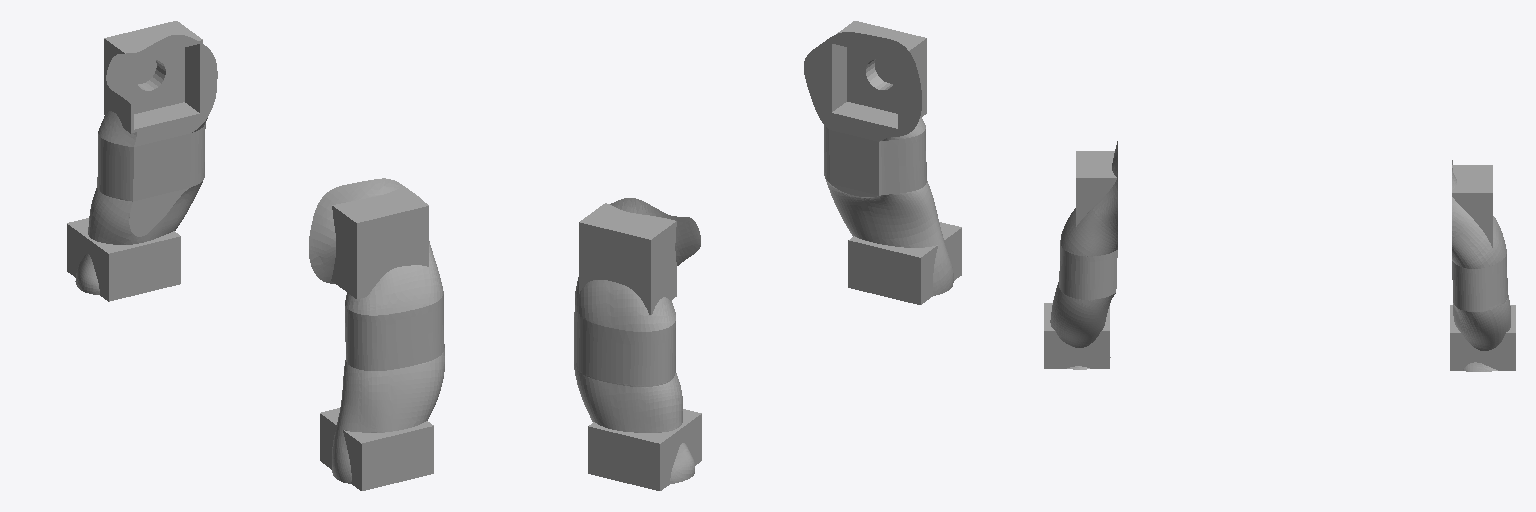
The robot description file, URDF, robot "FrogBot4_top-FrogBot4-y-7_bottom-FrogBot4-y-7":
<?xml version="1.0" ?>
<robot name="FrogBot4_top-FrogBot4-y-7_bottom-FrogBot4-y-7">

<material name="pla_5_percent_infill">
  <color rgba="0.700 0.700 0.700 1.000"/>
</material>

<link name="base_link">
  <inertial>
    <origin xyz="0 0 0" rpy="0 0 0"/>
    <mass value="1.4608203761339813"/>
    <inertia ixx="0.00496034401110324" iyy="0.010259632804669863" izz="0.010457868746855814" ixy="4.519338143051983e-05" iyz="5.808312742508133e-05" ixz="-0.001193761897574285"/>
  </inertial>
  <visual>
    <origin xyz="0 0 0" rpy="0 0 0"/>
    <geometry>
      <mesh filename="simple_meshes/base_link.stl" scale="0.001 0.001 0.001"/>
    </geometry>
    <material name="pla_5_percent_infill"/>
  </visual>
  <collision>
    <origin xyz="0 0 0" rpy="0 0 0"/>
    <geometry>
      <mesh filename="simple_meshes/base_link.stl" scale="0.001 0.001 0.001"/>
    </geometry>
  </collision>
</link>

<link name="body_1_0_1">
  <inertial>
    <origin xyz="-0.039935 -0.102508 -0.020563" rpy="0 0 0"/>
    <mass value="0.08806907417557021"/>
    <inertia ixx="0.00012049356356625958" iyy="0.00013686455339734474" izz="3.8516166821696155e-05" ixy="1.0189695669821303e-06" iyz="2.991540384396341e-06" ixz="-1.6095274941338198e-05"/>
  </inertial>
  <visual>
    <origin xyz="-0.039935 -0.102508 -0.020563" rpy="0 0 0"/>
    <geometry>
      <mesh filename="simple_meshes/body_1_0_1.stl" scale="0.001 0.001 0.001"/>
    </geometry>
    <material name="pla_5_percent_infill"/>
  </visual>
  <collision>
    <origin xyz="-0.039935 -0.102508 -0.020563" rpy="0 0 0"/>
    <geometry>
      <mesh filename="simple_meshes/body_1_0_1.stl" scale="0.001 0.001 0.001"/>
    </geometry>
  </collision>
</link>

<link name="body_1_1_1">
  <inertial>
    <origin xyz="0.084829 -0.102508 0.010182" rpy="0 0 0"/>
    <mass value="0.1029391210635293"/>
    <inertia ixx="9.719745371078491e-05" iyy="0.00014832582264538165" izz="7.721916214502777e-05" ixy="-2.106756490153055e-06" iyz="1.6386066714682568e-06" ixz="-2.84998514255218e-05"/>
  </inertial>
  <visual>
    <origin xyz="0.084829 -0.102508 0.010182" rpy="0 0 0"/>
    <geometry>
      <mesh filename="simple_meshes/body_1_1_1.stl" scale="0.001 0.001 0.001"/>
    </geometry>
    <material name="pla_5_percent_infill"/>
  </visual>
  <collision>
    <origin xyz="0.084829 -0.102508 0.010182" rpy="0 0 0"/>
    <geometry>
      <mesh filename="simple_meshes/body_1_1_1.stl" scale="0.001 0.001 0.001"/>
    </geometry>
  </collision>
</link>

<link name="body_1_2_1">
  <inertial>
    <origin xyz="-0.032973 0.102508 -0.03352" rpy="0 0 0"/>
    <mass value="0.0941985361875743"/>
    <inertia ixx="0.00014781790499370819" iyy="0.0001626710035251385" izz="4.1745987585721685e-05" ixy="-2.672525612576525e-06" iyz="-1.3399817730806013e-05" ixz="-1.3631072601363105e-05"/>
  </inertial>
  <visual>
    <origin xyz="-0.032973 0.102508 -0.03352" rpy="0 0 0"/>
    <geometry>
      <mesh filename="simple_meshes/body_1_2_1.stl" scale="0.001 0.001 0.001"/>
    </geometry>
    <material name="pla_5_percent_infill"/>
  </visual>
  <collision>
    <origin xyz="-0.032973 0.102508 -0.03352" rpy="0 0 0"/>
    <geometry>
      <mesh filename="simple_meshes/body_1_2_1.stl" scale="0.001 0.001 0.001"/>
    </geometry>
  </collision>
</link>

<link name="body_1_3_1">
  <inertial>
    <origin xyz="0.075405 0.102508 -0.000907" rpy="0 0 0"/>
    <mass value="0.10917235034942493"/>
    <inertia ixx="0.00010674321912296659" iyy="0.00015894901746545836" izz="8.067615208341879e-05" ixy="1.3409614431293855e-07" iyz="-1.6970439278731061e-06" ixz="-2.820375962325609e-05"/>
  </inertial>
  <visual>
    <origin xyz="0.075405 0.102508 -0.000907" rpy="0 0 0"/>
    <geometry>
      <mesh filename="simple_meshes/body_1_3_1.stl" scale="0.001 0.001 0.001"/>
    </geometry>
    <material name="pla_5_percent_infill"/>
  </visual>
  <collision>
    <origin xyz="0.075405 0.102508 -0.000907" rpy="0 0 0"/>
    <geometry>
      <mesh filename="simple_meshes/body_1_3_1.stl" scale="0.001 0.001 0.001"/>
    </geometry>
  </collision>
</link>

<link name="body_2_0_1">
  <inertial>
    <origin xyz="-0.025656 -0.145015 0.120436" rpy="0 0 0"/>
    <mass value="0.11635133974770652"/>
    <inertia ixx="9.74748840274443e-05" iyy="0.00011934417607174352" izz="0.00011483751253826922" ixy="-2.876155988833576e-07" iyz="1.020021458159482e-06" ixz="2.5302760128082706e-05"/>
  </inertial>
  <visual>
    <origin xyz="-0.025656 -0.145015 0.120436" rpy="0 0 0"/>
    <geometry>
      <mesh filename="simple_meshes/body_2_0_1.stl" scale="0.001 0.001 0.001"/>
    </geometry>
    <material name="pla_5_percent_infill"/>
  </visual>
  <collision>
    <origin xyz="-0.025656 -0.145015 0.120436" rpy="0 0 0"/>
    <geometry>
      <mesh filename="simple_meshes/body_2_0_1.stl" scale="0.001 0.001 0.001"/>
    </geometry>
  </collision>
</link>

<link name="body_2_1_1">
  <inertial>
    <origin xyz="0.114857 -0.145661 0.120438" rpy="0 0 0"/>
    <mass value="0.09928363723516312"/>
    <inertia ixx="7.267018725068495e-05" iyy="0.0001071929889748047" izz="8.167884557088757e-05" ixy="-3.150545319302025e-06" iyz="5.95418279835877e-06" ixz="2.595192462056346e-05"/>
  </inertial>
  <visual>
    <origin xyz="0.114857 -0.145661 0.120438" rpy="0 0 0"/>
    <geometry>
      <mesh filename="simple_meshes/body_2_1_1.stl" scale="0.001 0.001 0.001"/>
    </geometry>
    <material name="pla_5_percent_infill"/>
  </visual>
  <collision>
    <origin xyz="0.114857 -0.145661 0.120438" rpy="0 0 0"/>
    <geometry>
      <mesh filename="simple_meshes/body_2_1_1.stl" scale="0.001 0.001 0.001"/>
    </geometry>
  </collision>
</link>

<link name="body_2_2_1">
  <inertial>
    <origin xyz="-0.022601 0.152053 0.120436" rpy="0 0 0"/>
    <mass value="0.1258670170742875"/>
    <inertia ixx="0.00010483389591859401" iyy="0.00013170263491416034" izz="0.0001236093088681019" ixy="-3.5660109023371786e-06" iyz="-8.461715890690016e-07" ixz="2.8156129153104762e-05"/>
  </inertial>
  <visual>
    <origin xyz="-0.022601 0.152053 0.120436" rpy="0 0 0"/>
    <geometry>
      <mesh filename="simple_meshes/body_2_2_1.stl" scale="0.001 0.001 0.001"/>
    </geometry>
    <material name="pla_5_percent_infill"/>
  </visual>
  <collision>
    <origin xyz="-0.022601 0.152053 0.120436" rpy="0 0 0"/>
    <geometry>
      <mesh filename="simple_meshes/body_2_2_1.stl" scale="0.001 0.001 0.001"/>
    </geometry>
  </collision>
</link>

<link name="body_2_3_1">
  <inertial>
    <origin xyz="0.12145 0.146005 0.120436" rpy="0 0 0"/>
    <mass value="0.10434137259463774"/>
    <inertia ixx="8.969585810559167e-05" iyy="9.703129321476413e-05" izz="9.775546545465587e-05" ixy="6.002398089952022e-06" iyz="-1.0557005019453617e-05" ixz="1.8072735171900407e-05"/>
  </inertial>
  <visual>
    <origin xyz="0.12145 0.146005 0.120436" rpy="0 0 0"/>
    <geometry>
      <mesh filename="simple_meshes/body_2_3_1.stl" scale="0.001 0.001 0.001"/>
    </geometry>
    <material name="pla_5_percent_infill"/>
  </visual>
  <collision>
    <origin xyz="0.12145 0.146005 0.120436" rpy="0 0 0"/>
    <geometry>
      <mesh filename="simple_meshes/body_2_3_1.stl" scale="0.001 0.001 0.001"/>
    </geometry>
  </collision>
</link>

<joint name="joint_1_0" type="revolute">
  <origin xyz="0.039935 0.102508 0.020563" rpy="0 0 0"/>
  <parent link="base_link"/>
  <child link="body_1_0_1"/>
  <axis xyz="0.0 0.0 -1.0"/>
  <limit upper="1.2" lower="-1.2" effort="3.8" velocity="5.4"/>
</joint>
<transmission name="joint_1_0_tran">
  <type>transmission_interface/SimpleTransmission</type>
  <joint name="joint_1_0">
    <hardwareInterface>PositionJointInterface</hardwareInterface>
  </joint>
  <actuator name="joint_1_0_actr">
    <hardwareInterface>PositionJointInterface</hardwareInterface>
    <mechanicalReduction>1</mechanicalReduction>
  </actuator>
</transmission>

<joint name="joint_1_1" type="revolute">
  <origin xyz="-0.084829 0.102508 -0.010182" rpy="0 0 0"/>
  <parent link="base_link"/>
  <child link="body_1_1_1"/>
  <axis xyz="0.0 0.0 -1.0"/>
  <limit upper="1.2" lower="-1.2" effort="3.8" velocity="5.4"/>
</joint>
<transmission name="joint_1_1_tran">
  <type>transmission_interface/SimpleTransmission</type>
  <joint name="joint_1_1">
    <hardwareInterface>PositionJointInterface</hardwareInterface>
  </joint>
  <actuator name="joint_1_1_actr">
    <hardwareInterface>PositionJointInterface</hardwareInterface>
    <mechanicalReduction>1</mechanicalReduction>
  </actuator>
</transmission>

<joint name="joint_1_2" type="revolute">
  <origin xyz="0.032973 -0.102508 0.03352" rpy="0 0 0"/>
  <parent link="base_link"/>
  <child link="body_1_2_1"/>
  <axis xyz="0.0 0.0 -1.0"/>
  <limit upper="1.2" lower="-1.2" effort="3.8" velocity="5.4"/>
</joint>
<transmission name="joint_1_2_tran">
  <type>transmission_interface/SimpleTransmission</type>
  <joint name="joint_1_2">
    <hardwareInterface>PositionJointInterface</hardwareInterface>
  </joint>
  <actuator name="joint_1_2_actr">
    <hardwareInterface>PositionJointInterface</hardwareInterface>
    <mechanicalReduction>1</mechanicalReduction>
  </actuator>
</transmission>

<joint name="joint_1_3" type="revolute">
  <origin xyz="-0.075405 -0.102508 0.000907" rpy="0 0 0"/>
  <parent link="base_link"/>
  <child link="body_1_3_1"/>
  <axis xyz="0.0 0.0 -1.0"/>
  <limit upper="1.2" lower="-1.2" effort="3.8" velocity="5.4"/>
</joint>
<transmission name="joint_1_3_tran">
  <type>transmission_interface/SimpleTransmission</type>
  <joint name="joint_1_3">
    <hardwareInterface>PositionJointInterface</hardwareInterface>
  </joint>
  <actuator name="joint_1_3_actr">
    <hardwareInterface>PositionJointInterface</hardwareInterface>
    <mechanicalReduction>1</mechanicalReduction>
  </actuator>
</transmission>

<joint name="joint_2_0" type="revolute">
  <origin xyz="-0.014279 0.042507 -0.140999" rpy="0 0 0"/>
  <parent link="body_1_0_1"/>
  <child link="body_2_0_1"/>
  <axis xyz="0.0 1.0 0.0"/>
  <limit upper="1.2" lower="-1.2" effort="3.8" velocity="5.4"/>
</joint>
<transmission name="joint_2_0_tran">
  <type>transmission_interface/SimpleTransmission</type>
  <joint name="joint_2_0">
    <hardwareInterface>PositionJointInterface</hardwareInterface>
  </joint>
  <actuator name="joint_2_0_actr">
    <hardwareInterface>PositionJointInterface</hardwareInterface>
    <mechanicalReduction>1</mechanicalReduction>
  </actuator>
</transmission>

<joint name="joint_2_1" type="revolute">
  <origin xyz="-0.030028 0.043153 -0.110256" rpy="0 0 0"/>
  <parent link="body_1_1_1"/>
  <child link="body_2_1_1"/>
  <axis xyz="0.0 1.0 0.0"/>
  <limit upper="1.2" lower="-1.2" effort="3.8" velocity="5.4"/>
</joint>
<transmission name="joint_2_1_tran">
  <type>transmission_interface/SimpleTransmission</type>
  <joint name="joint_2_1">
    <hardwareInterface>PositionJointInterface</hardwareInterface>
  </joint>
  <actuator name="joint_2_1_actr">
    <hardwareInterface>PositionJointInterface</hardwareInterface>
    <mechanicalReduction>1</mechanicalReduction>
  </actuator>
</transmission>

<joint name="joint_2_2" type="revolute">
  <origin xyz="-0.010372 -0.049545 -0.153956" rpy="0 0 0"/>
  <parent link="body_1_2_1"/>
  <child link="body_2_2_1"/>
  <axis xyz="0.0 1.0 0.0"/>
  <limit upper="1.2" lower="-1.2" effort="3.8" velocity="5.4"/>
</joint>
<transmission name="joint_2_2_tran">
  <type>transmission_interface/SimpleTransmission</type>
  <joint name="joint_2_2">
    <hardwareInterface>PositionJointInterface</hardwareInterface>
  </joint>
  <actuator name="joint_2_2_actr">
    <hardwareInterface>PositionJointInterface</hardwareInterface>
    <mechanicalReduction>1</mechanicalReduction>
  </actuator>
</transmission>

<joint name="joint_2_3" type="revolute">
  <origin xyz="-0.046045 -0.043497 -0.121343" rpy="0 0 0"/>
  <parent link="body_1_3_1"/>
  <child link="body_2_3_1"/>
  <axis xyz="0.0 1.0 0.0"/>
  <limit upper="1.2" lower="-1.2" effort="3.8" velocity="5.4"/>
</joint>
<transmission name="joint_2_3_tran">
  <type>transmission_interface/SimpleTransmission</type>
  <joint name="joint_2_3">
    <hardwareInterface>PositionJointInterface</hardwareInterface>
  </joint>
  <actuator name="joint_2_3_actr">
    <hardwareInterface>PositionJointInterface</hardwareInterface>
    <mechanicalReduction>1</mechanicalReduction>
  </actuator>
</transmission>

</robot>

--- What the picture shows (computed from the rendered views, not written in the file) ---
The picture shows the robot from 3 angles, left to right: view 1: azimuth 30°, elevation 25°; view 2: azimuth 150°, elevation 25°; view 3: azimuth 270°, elevation 25°; orthographic projection.
Robot: FrogBot4_top-FrogBot4-y-7_bottom-FrogBot4-y-7 — 9 links, 8 joints (8 revolute); root link base_link; default pose: all joints at 0.
Visible links, largest first — view 1: body_1_2_1, body_1_0_1; view 2: body_1_0_1, body_1_2_1; view 3: body_1_2_1, body_1_0_1.
Link boxes in pixels (bbox=[...]): body_1_2_1: bbox=[309, 178, 444, 490]; body_1_0_1: bbox=[67, 21, 217, 301]; body_1_0_1: bbox=[574, 198, 701, 490]; body_1_2_1: bbox=[804, 21, 961, 304]; body_1_2_1: bbox=[1044, 141, 1117, 369]; body_1_0_1: bbox=[1450, 160, 1515, 371].
Size in the robot's own frame: 0.0812 by 0.3455 by 0.1688 metres.
2 mesh visuals loaded from 9 distinct referenced files (2 binary STL); not drawn: 7 (reference not matched to a file when rendering).